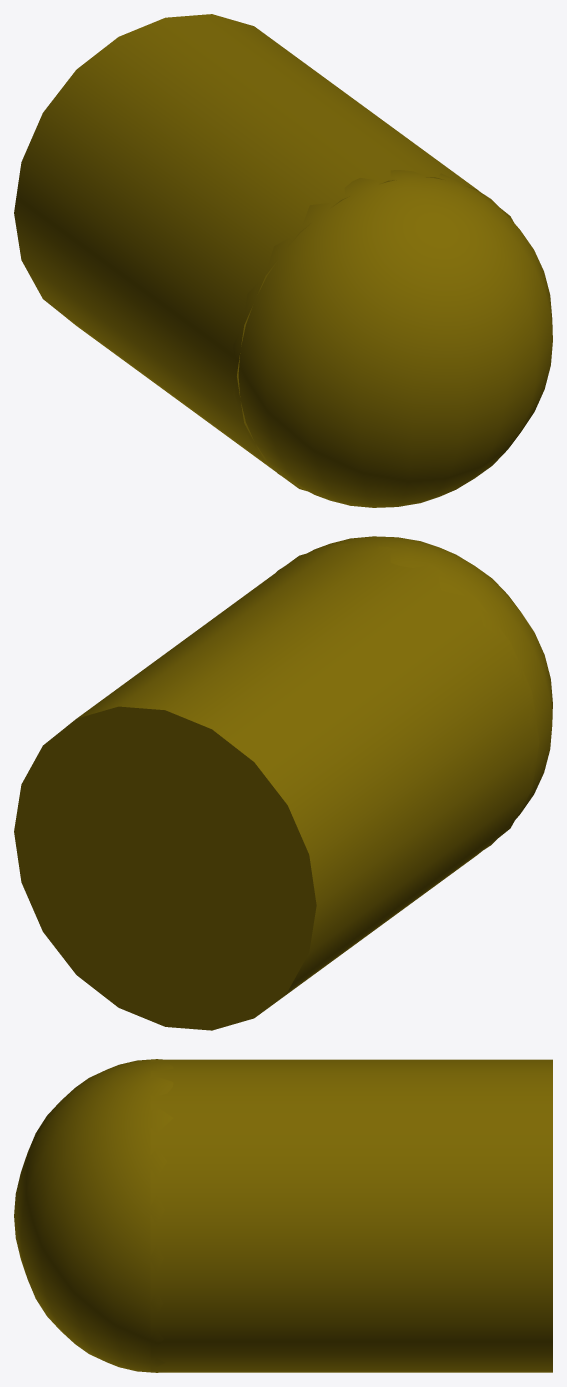
File: Bullet.fbx
3 renders of one model, top to bottom at view 1: azimuth 30°, elevation 25°; view 2: azimuth 150°, elevation 25°; view 3: azimuth 270°, elevation 25°, orthographic. The views are drawn at different scales.
Visible parts, largest first — view 1: pSphere2; view 2: pSphere2; view 3: pSphere2.
Part boxes in pixels (<box>): pSphere2: <box>14,14,552,507</box>; pSphere2: <box>14,536,552,1030</box>; pSphere2: <box>14,1059,552,1372</box>.
Bounding box in the file's own units: 1.04 × 1.04 × 1.77.
